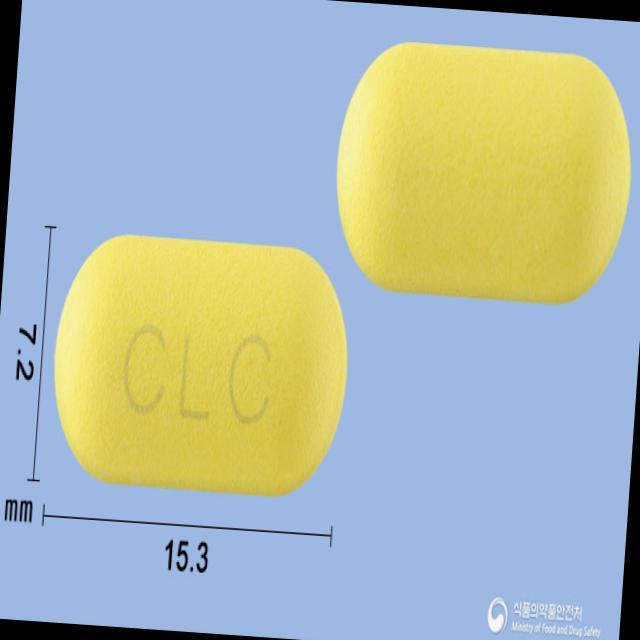Claric - 500mg: (41, 221, 360, 508)
